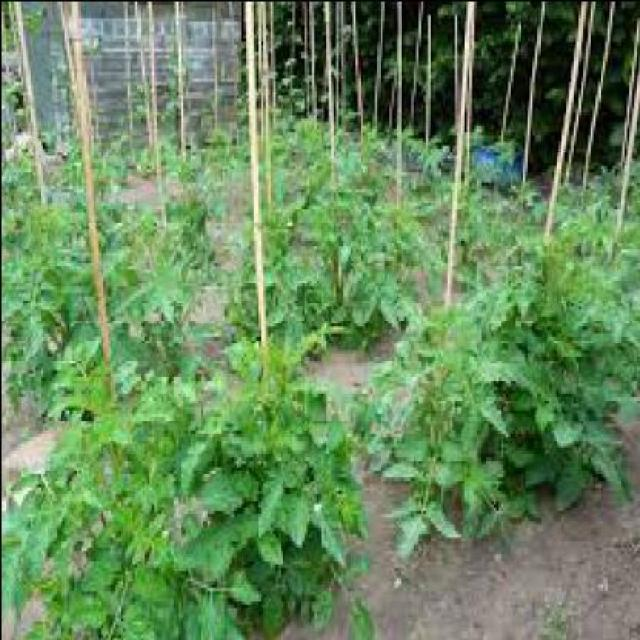BIODEGRADABLE: (196, 368, 364, 630), (38, 375, 202, 637), (371, 315, 500, 543), (497, 265, 615, 480), (322, 191, 398, 335), (2, 245, 82, 372), (122, 251, 189, 375), (2, 472, 61, 590), (266, 245, 325, 362), (598, 218, 638, 377), (53, 332, 104, 412), (7, 194, 84, 240), (169, 188, 211, 262), (101, 194, 148, 252), (294, 110, 324, 138)
